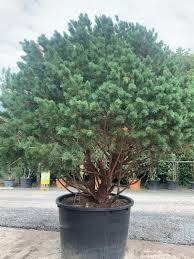tree: (2, 7, 187, 200)
